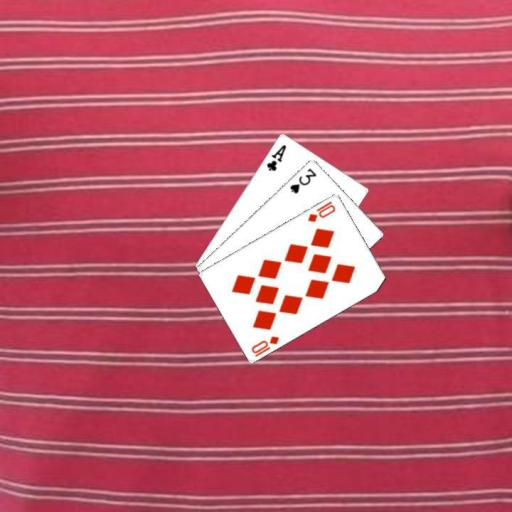10D: (248, 332, 281, 358), (304, 198, 337, 223)
3S: (286, 165, 318, 195)
AC: (263, 142, 288, 172)
